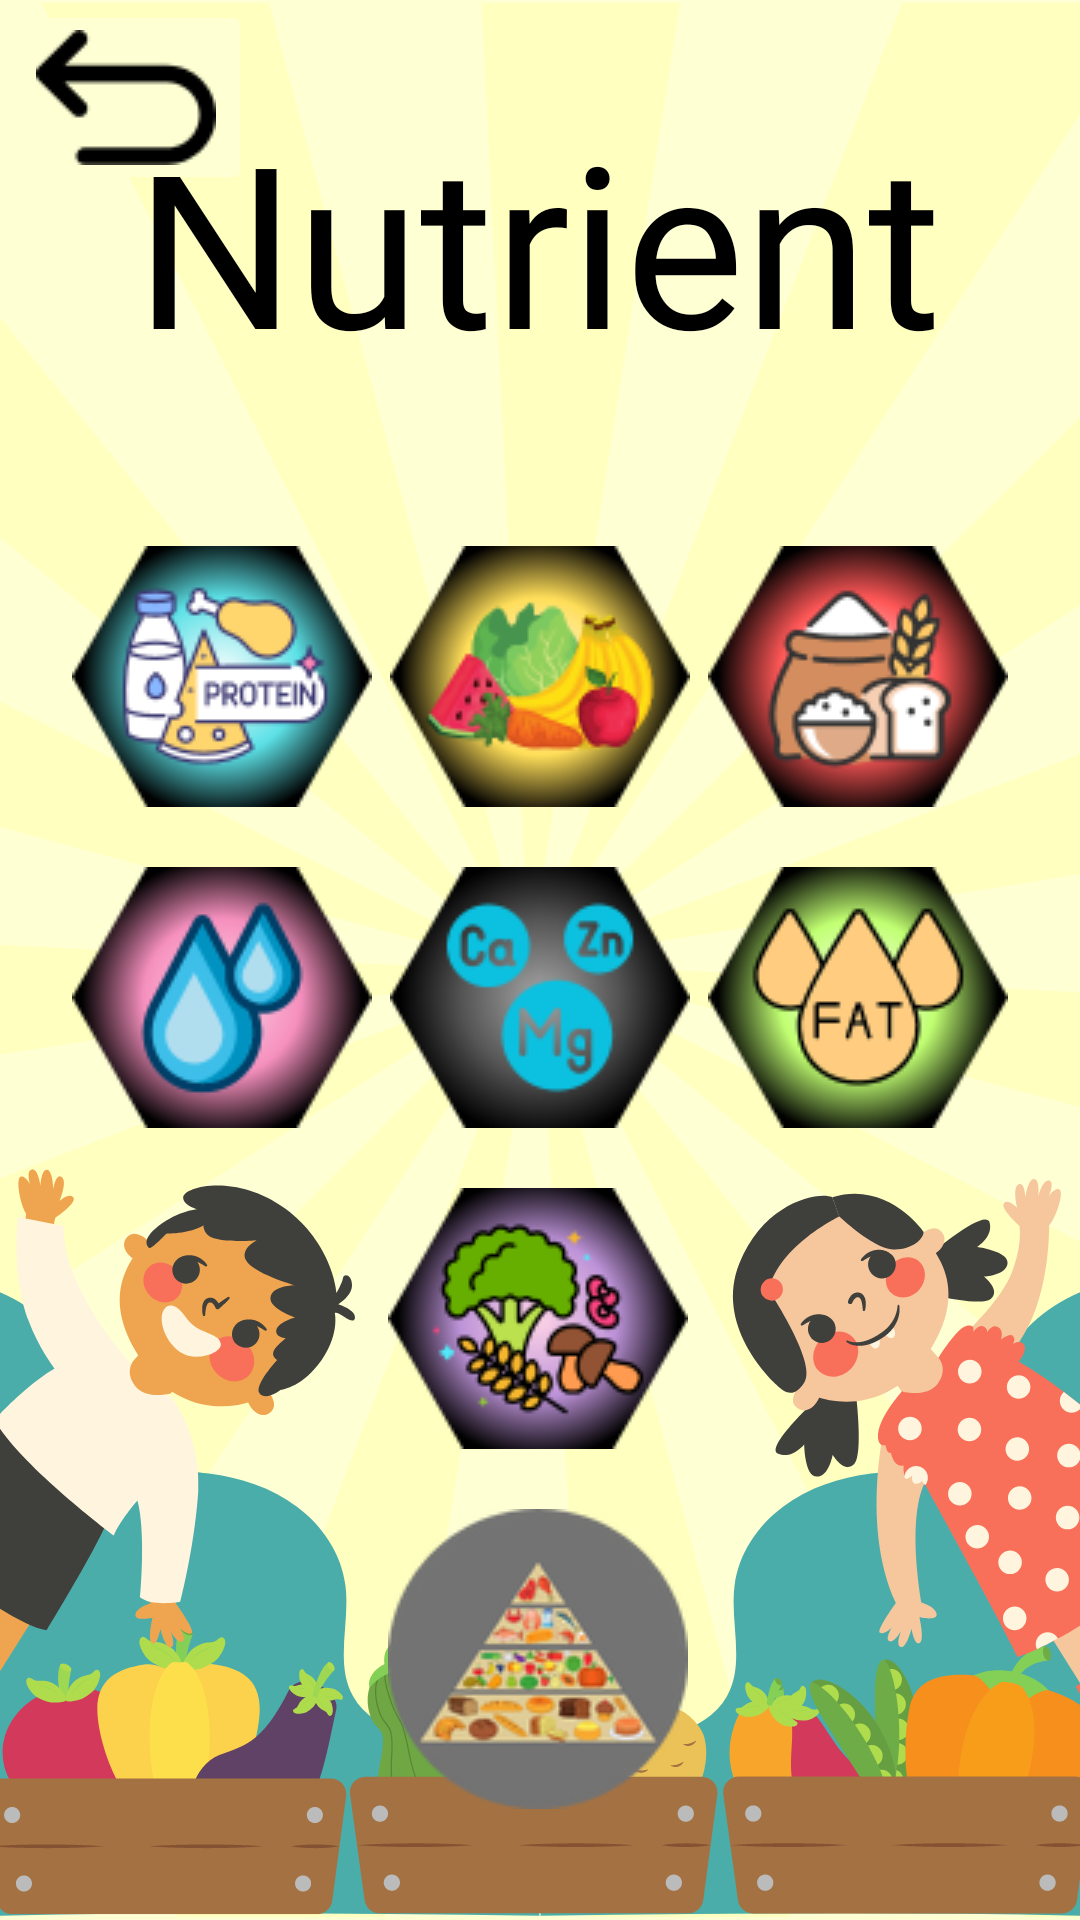

Point at icon controls on the screen. Image size 1080 x 1920, points as (x=x, y=y).
Back: (x=126, y=97)
To carbohydrate module: (x=858, y=676)
To dietary fiber module: (x=538, y=1318)
To mineral module: (x=540, y=997)
To pyramid module: (x=538, y=1659)
To vitamin module: (x=540, y=676)
To water module: (x=222, y=997)
